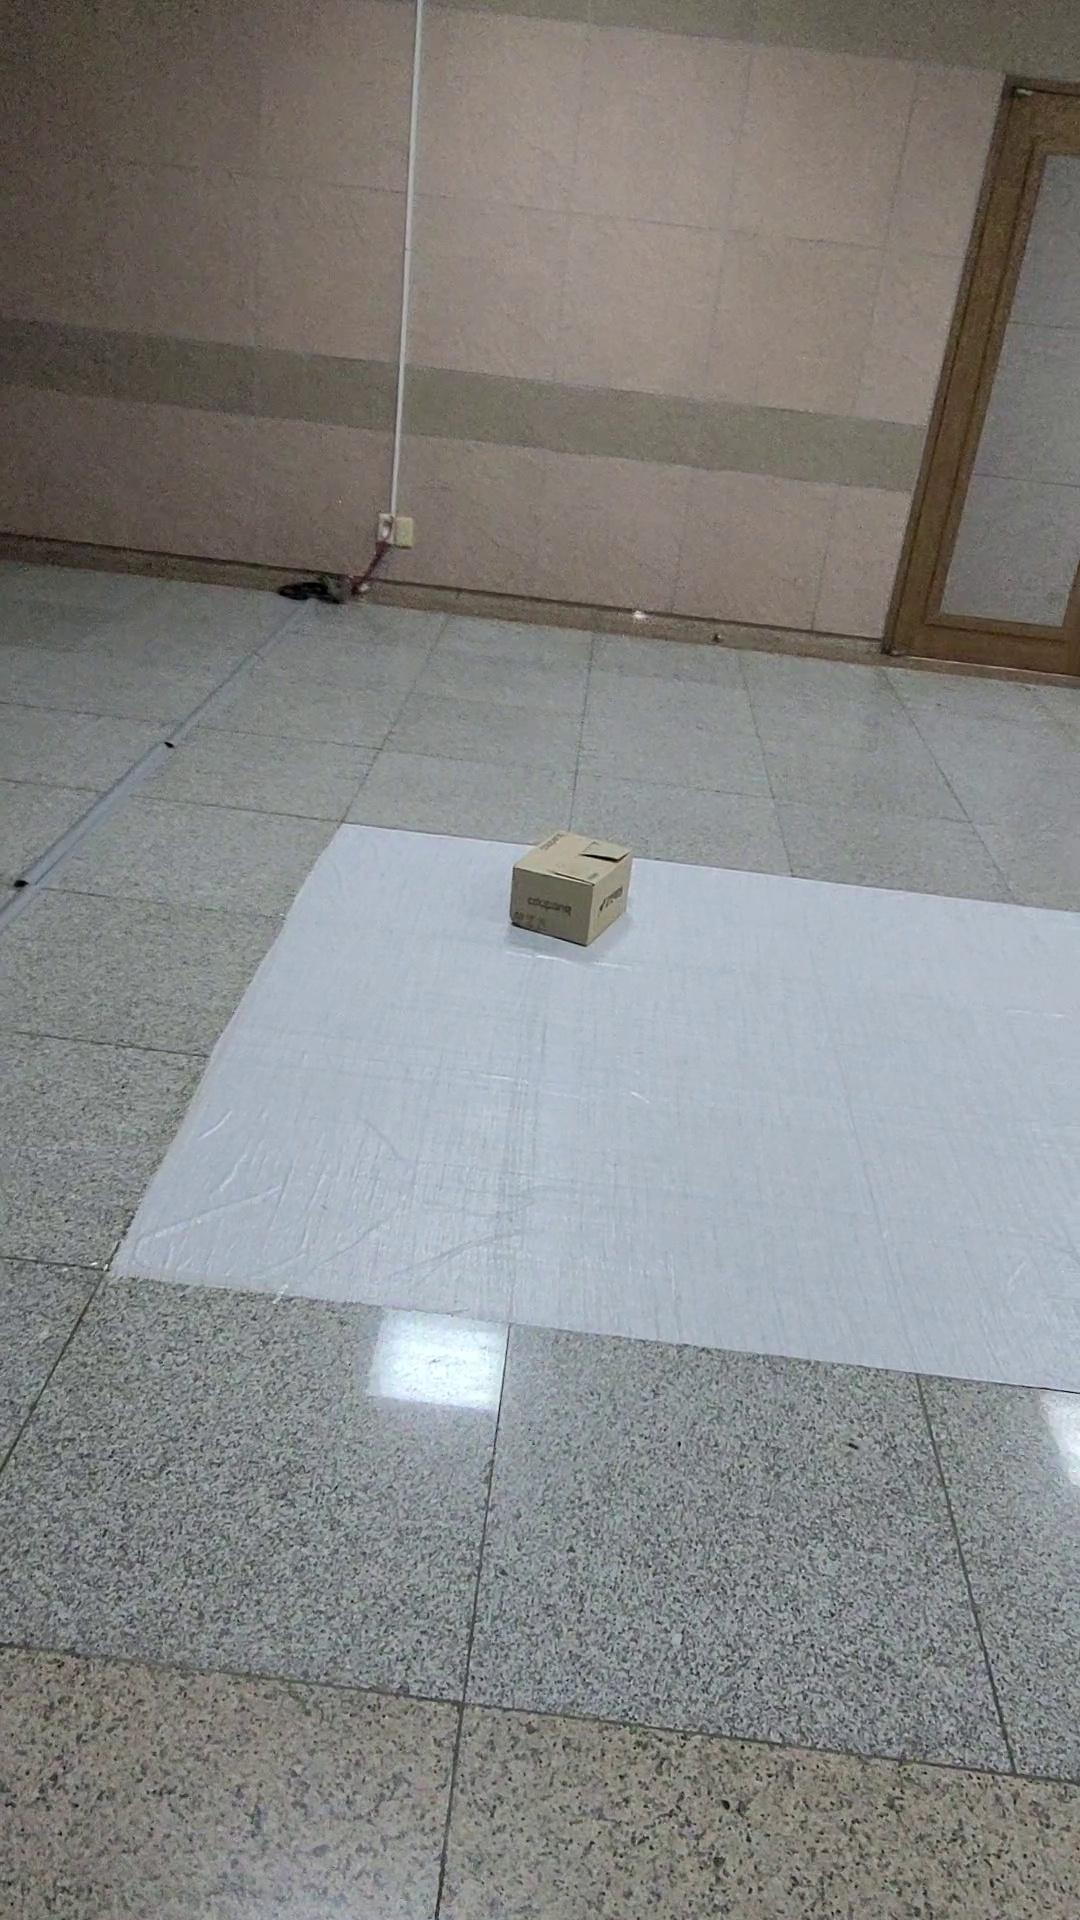Box: (496, 814, 653, 968)
